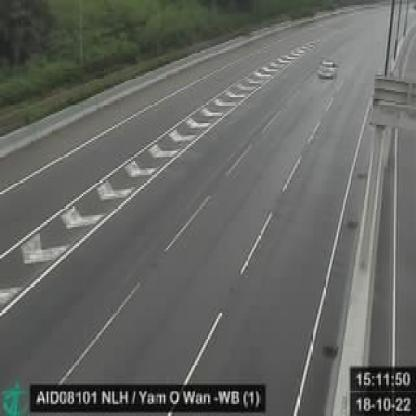Car: (319, 58, 339, 80)
